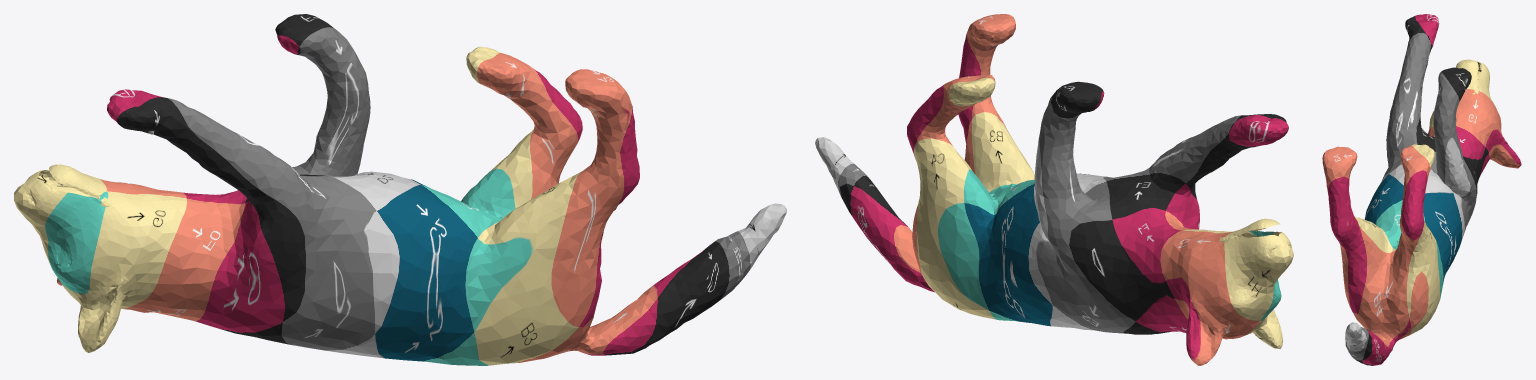
File: fox_02-wolf_01.obj
3 renders of one model, left to right at view 1: azimuth 30°, elevation 25°; view 2: azimuth 150°, elevation 25°; view 3: azimuth 270°, elevation 25°, orthographic. The views are drawn at different scales.
Parts seen in each view (by area): view 1: fox_02-wolf_01_export; view 2: fox_02-wolf_01_export; view 3: fox_02-wolf_01_export.
Part boxes in pixels (x1,y1,x2,y2): fox_02-wolf_01_export: (14,14,786,365); fox_02-wolf_01_export: (815,14,1293,365); fox_02-wolf_01_export: (1322,14,1521,365).
Size of the model in its own units: 1.14 by 0.5608 by 0.4731.
